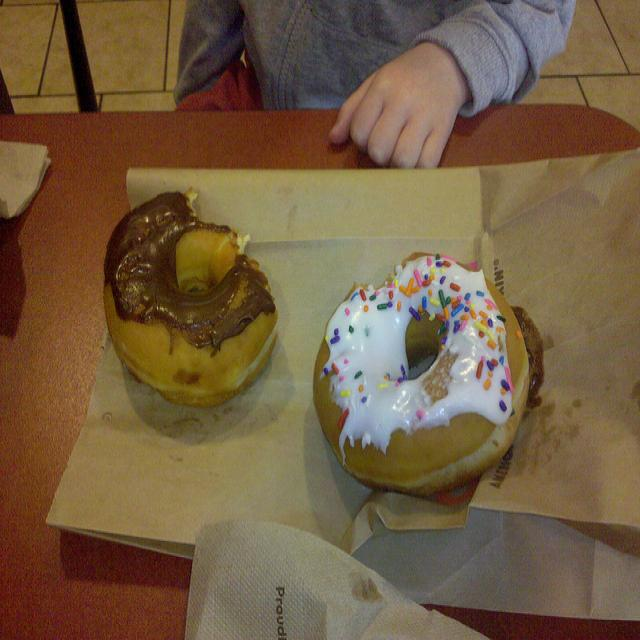chair: (54, 0, 99, 114)
dining table: (0, 98, 640, 633)
